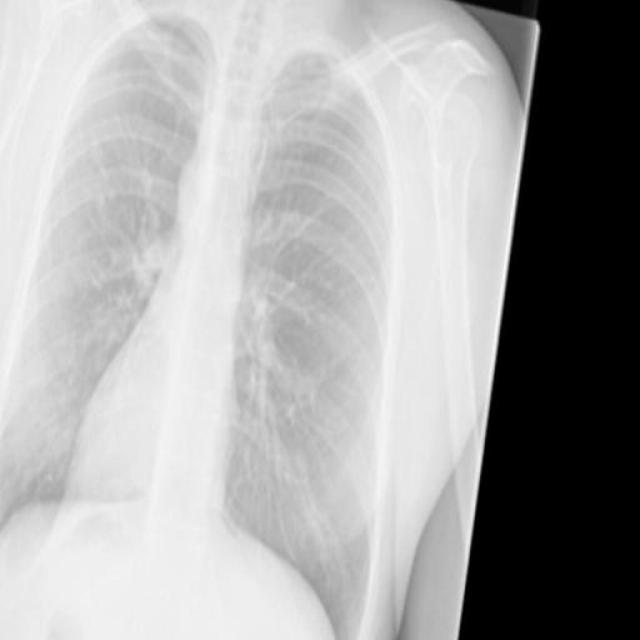tuberculosis: (0, 0, 541, 640)
